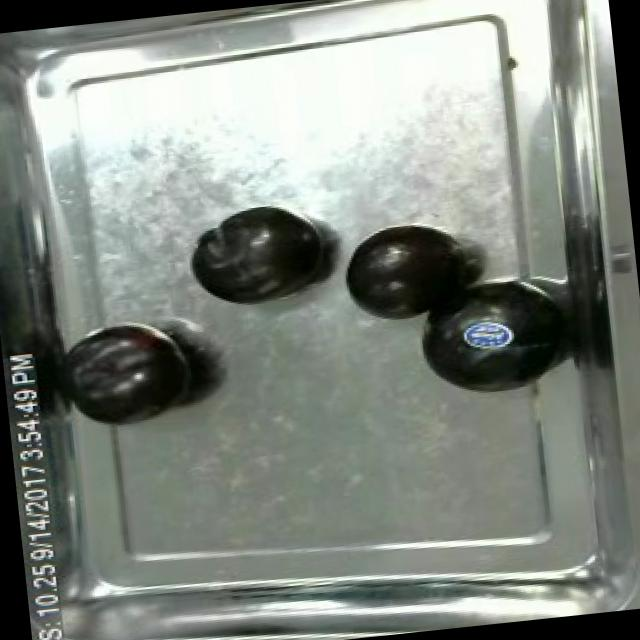Fruit: (407, 273, 574, 407), (56, 309, 209, 433), (181, 198, 332, 310), (333, 216, 472, 330)
